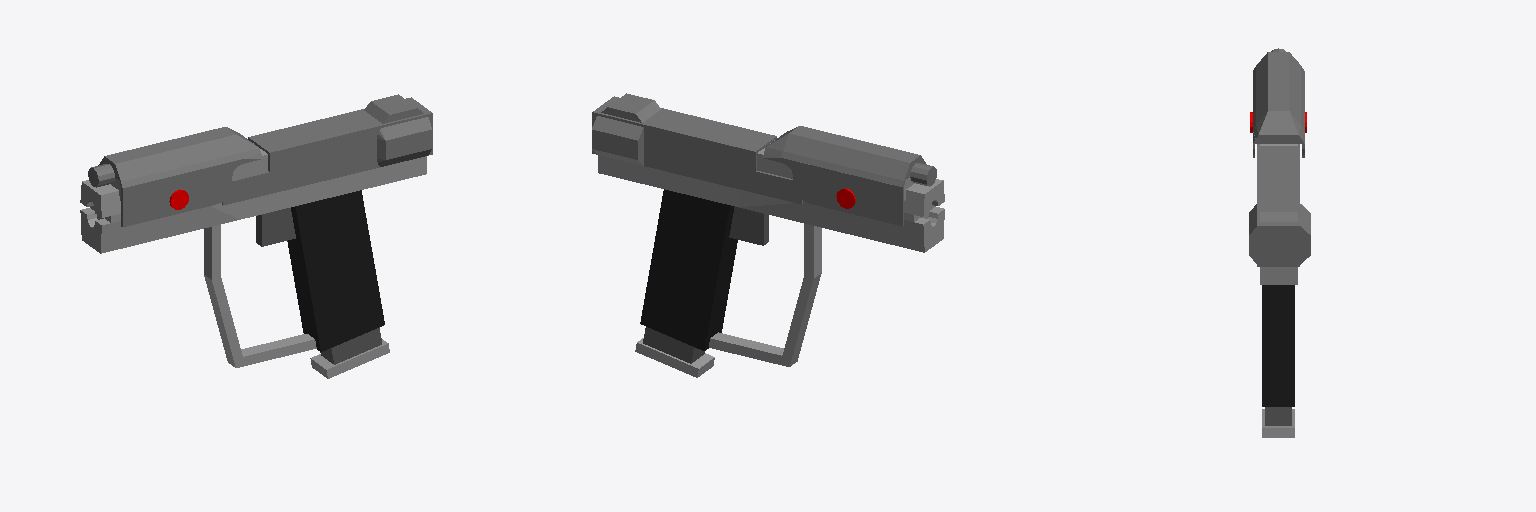
The model's file is Pistol.obj.
The picture shows the model from 3 angles: view 1: azimuth 30°, elevation 25°; view 2: azimuth 150°, elevation 25°; view 3: azimuth 270°, elevation 25°; orthographic projection.
Visible parts, largest first — view 1: the_node.008_tri_300_geometry, the_node.020_tri_828_geometry, the_node.059_tri_2232_geometry, the_node.035_tri_1380_geometry, the_node.025_tri_1050_geometry, the_node.042_tri_1632_geometry, the_node.021_tri_870_geometry, the_node.047_tri_1788_geometry, the_node.075_tri_2544_geometry, the_node.036_tri_1428_geometry, the_node.010_tri_384_geometry, the_node.048_tri_1836_geometry (+7 smaller); view 2: the_node.008_tri_300_geometry, the_node.020_tri_828_geometry, the_node.059_tri_2232_geometry, the_node.026_tri_1098_geometry, the_node.022_tri_906_geometry, the_node.062_tri_2352_geometry, the_node.049_tri_1884_geometry, the_node.074_tri_2496_geometry, the_node.021_tri_870_geometry, the_node.047_tri_1788_geometry, the_node.034_tri_1332_geometry, the_node.036_tri_1428_geometry (+8 smaller); view 3: the_node.020_tri_828_geometry, the_node.008_tri_300_geometry, the_node.047_tri_1788_geometry, the_node.026_tri_1098_geometry, the_node.059_tri_2232_geometry, the_node.035_tri_1380_geometry, the_node.007_tri_264_geometry.
Boxes of the visible parts, <box> form: the_node.008_tri_300_geometry: <box>287,190,384,351</box>; the_node.020_tri_828_geometry: <box>248,97,432,193</box>; the_node.059_tri_2232_geometry: <box>91,143,426,221</box>; the_node.035_tri_1380_geometry: <box>115,135,241,226</box>; the_node.025_tri_1050_geometry: <box>123,162,241,212</box>; the_node.042_tri_1632_geometry: <box>101,209,198,253</box>; the_node.021_tri_870_geometry: <box>204,275,242,367</box>; the_node.047_tri_1788_geometry: <box>104,127,235,187</box>; the_node.075_tri_2544_geometry: <box>236,334,316,367</box>; the_node.036_tri_1428_geometry: <box>256,208,295,246</box>; the_node.010_tri_384_geometry: <box>88,168,269,205</box>; the_node.048_tri_1836_geometry: <box>121,139,385,187</box>; the_node.008_tri_300_geometry: <box>640,189,737,350</box>; the_node.020_tri_828_geometry: <box>592,96,776,192</box>; the_node.059_tri_2232_geometry: <box>598,140,933,220</box>; the_node.026_tri_1098_geometry: <box>592,134,909,180</box>; the_node.022_tri_906_geometry: <box>773,127,903,211</box>; the_node.062_tri_2352_geometry: <box>826,208,924,252</box>; the_node.049_tri_1884_geometry: <box>738,189,826,228</box>; the_node.074_tri_2496_geometry: <box>709,224,821,366</box>; the_node.021_tri_870_geometry: <box>781,273,821,366</box>; the_node.047_tri_1788_geometry: <box>789,126,920,173</box>; the_node.034_tri_1332_geometry: <box>809,156,926,225</box>; the_node.036_tri_1428_geometry: <box>729,207,768,245</box>; the_node.020_tri_828_geometry: <box>1257,146,1299,266</box>; the_node.008_tri_300_geometry: <box>1262,285,1294,406</box>; the_node.047_tri_1788_geometry: <box>1268,52,1288,110</box>; the_node.026_tri_1098_geometry: <box>1289,52,1310,264</box>; the_node.059_tri_2232_geometry: <box>1260,144,1297,284</box>; the_node.035_tri_1380_geometry: <box>1256,52,1267,123</box>; the_node.007_tri_264_geometry: <box>1260,198,1297,211</box>.
Bounding box in the file's own units: 0.5071 × 0.3872 × 0.0821.